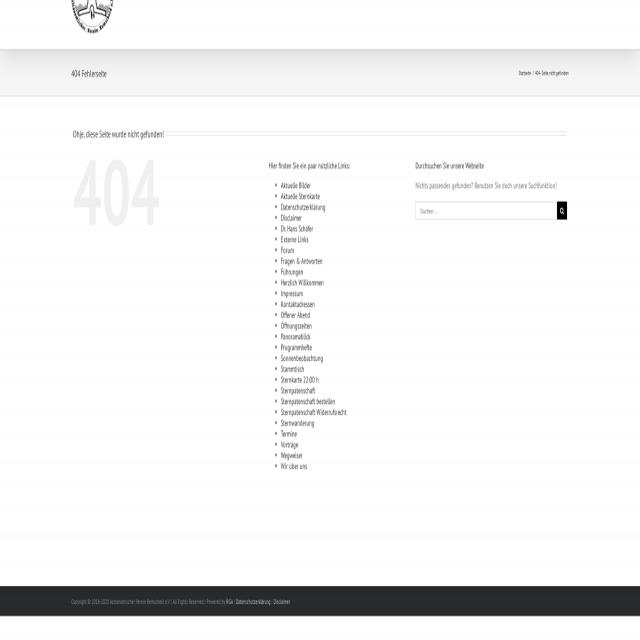button: (71, 0, 113, 35)
field: (415, 202, 557, 220), (557, 202, 567, 220)
